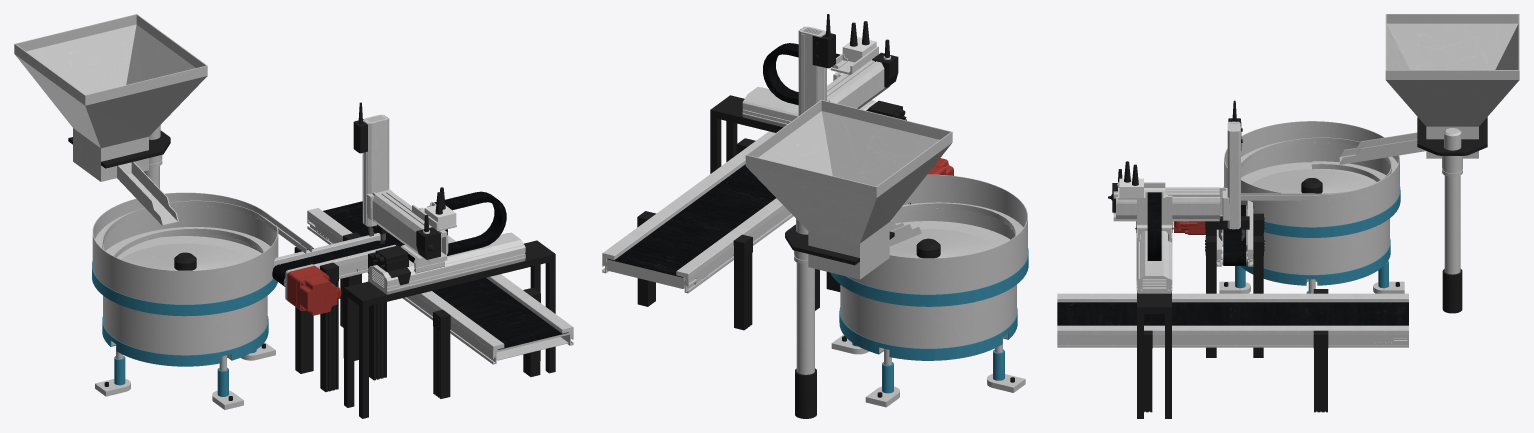
Rendered from Pick_and_Place_Station.glb.
The picture shows the model from 3 angles, left to right: view 1: azimuth 30°, elevation 25°; view 2: azimuth 150°, elevation 25°; view 3: azimuth 270°, elevation 25°; orthographic projection. The views are drawn at different scales.
Parts seen in each view (by area): view 1: color-12[21], color-12[20], color-12[5], color-8.002, color-13[2], color-9.002, color-12[27], color-5[5], color-12.002, color.003, color-11[1], color-12[6] (+18 smaller); view 2: color-12[21], color-12[20], color-12[5], color-13[2], color-12.002, color-13[3], color-12[6], color-12[25], color-8.002, color-5[5], color.003, color-14.002 (+17 smaller); view 3: color-12[21], color-12[20], color-13[2], color-12[5], color-13[5], color-13[3], color-13[4], color-5[5], color-8.002, color-12[27], color-9.002, color-12[25] (+13 smaller).
Boxes of the visible parts, x1,y1,x2,y2 form: color-12[21]: [14, 14, 207, 225]; color-12[20]: [92, 192, 278, 304]; color-12[5]: [103, 295, 267, 358]; color-8.002: [344, 240, 555, 418]; color-13[2]: [323, 201, 568, 349]; color-9.002: [368, 232, 525, 294]; color-12[27]: [95, 200, 312, 257]; color-5[5]: [366, 189, 448, 263]; color-12.002: [92, 261, 277, 316]; color.003: [362, 114, 389, 226]; color-11[1]: [287, 265, 341, 315]; color-12[6]: [102, 316, 268, 366]; color-12[21]: [745, 100, 952, 279]; color-12[20]: [847, 174, 1027, 294]; color-12[5]: [840, 285, 1016, 352]; color-13[2]: [607, 164, 775, 277]; color-12.002: [830, 248, 1028, 306]; color-13[3]: [602, 131, 775, 259]; color-12[6]: [839, 307, 1017, 360]; color-12[25]: [796, 262, 814, 374]; color-8.002: [710, 95, 782, 173]; color-5[5]: [827, 59, 890, 108]; color.003: [798, 26, 826, 115]; color-14.002: [733, 234, 752, 330]; color-12[21]: [1339, 14, 1519, 164]; color-12[20]: [1224, 121, 1399, 227]; color-13[2]: [1057, 302, 1408, 325]; color-12[5]: [1246, 218, 1389, 281]; color-13[5]: [1057, 335, 1382, 347]; color-13[3]: [1057, 325, 1408, 334]; color-13[4]: [1057, 293, 1408, 302]; color-5[5]: [1113, 187, 1229, 221]; color-8.002: [1137, 292, 1171, 418]; color-12[27]: [1241, 137, 1397, 200]; color-9.002: [1136, 224, 1172, 293]; color-12[25]: [1444, 175, 1460, 274].
Bounding box in the file's own units: 1.13 × 0.79 × 1.31.
Materials: 7 (7 with a texture image).
